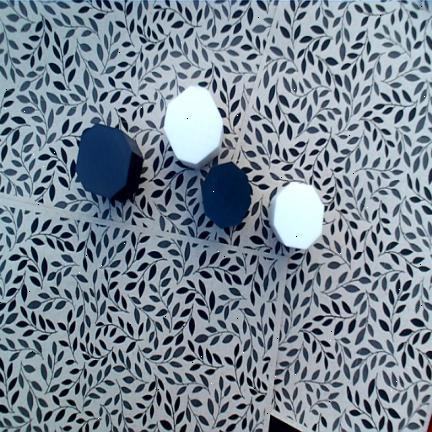Prisma_hexagonal: (76, 125, 144, 202), (163, 86, 224, 169), (269, 180, 324, 250), (202, 162, 250, 228)
